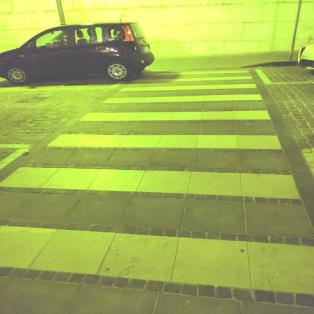Paso de Cebra: (38, 107, 289, 158), (113, 74, 262, 94)
